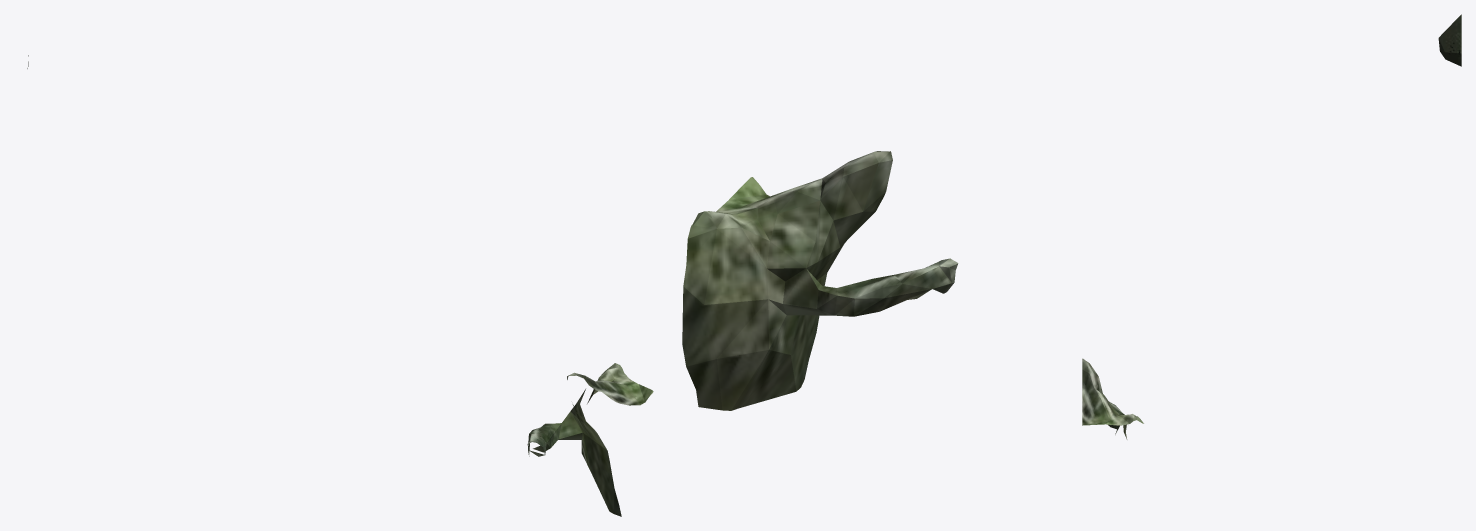
3 views of the same model, side by side, from view 1: azimuth 30°, elevation 25°; view 2: azimuth 150°, elevation 25°; view 3: azimuth 270°, elevation 25° (orthographic). The views are drawn at different scales.
Size of the model in its own units: 5.9 by 5.88 by 5.9.
1 material, 1 textured.
